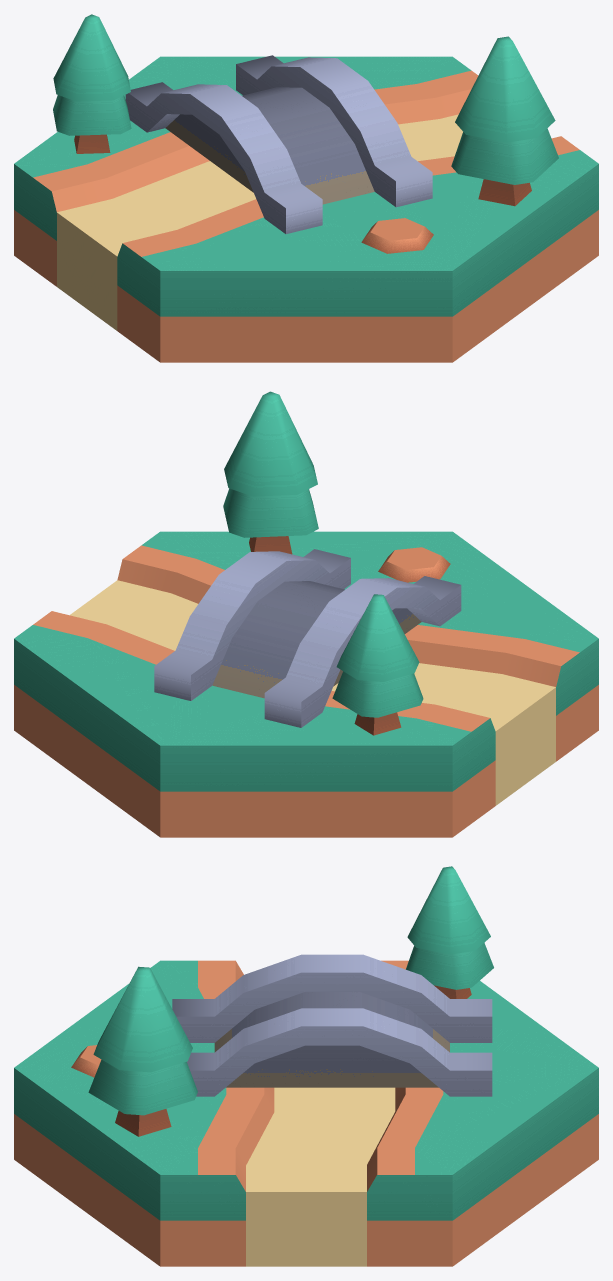
File: hx_bridge.glb
The picture shows the model from 3 angles, top to bottom: view 1: azimuth 30°, elevation 25°; view 2: azimuth 150°, elevation 25°; view 3: azimuth 270°, elevation 25°; orthographic projection.
Bounding box in the file's own units: 1 × 0.5382 × 1.15.
Materials: 1 (1 with a texture image).
